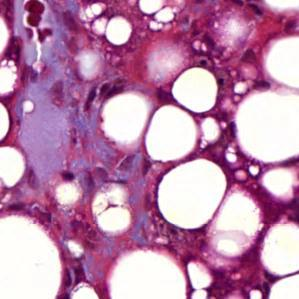steatosis: (155, 153, 228, 232), (170, 66, 226, 115)
